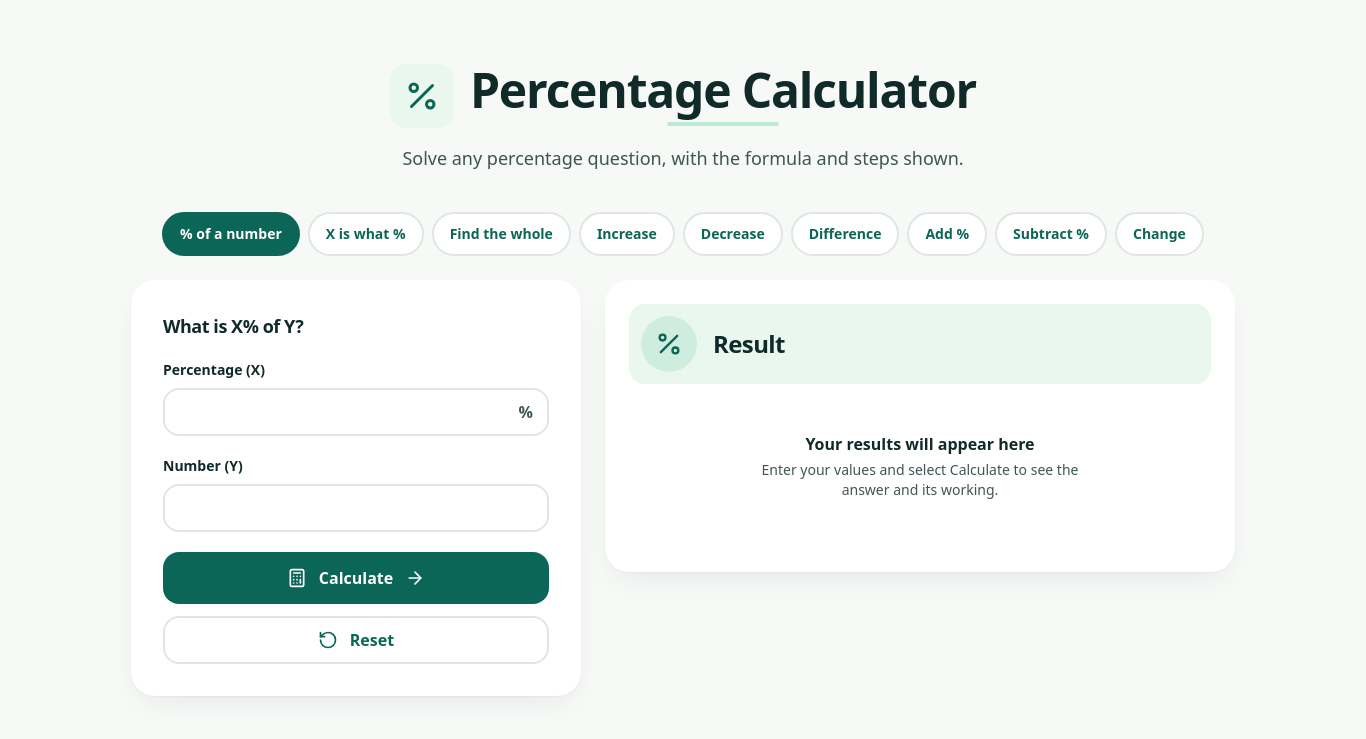
Test: Percentage Calculator › shows the answer, formula and steps, and moves focus to them
The width and height of the screenshot is (1366, 739).
In the field labelled "Percentage (X)": (356, 412) [163,388,549,436], type "20"
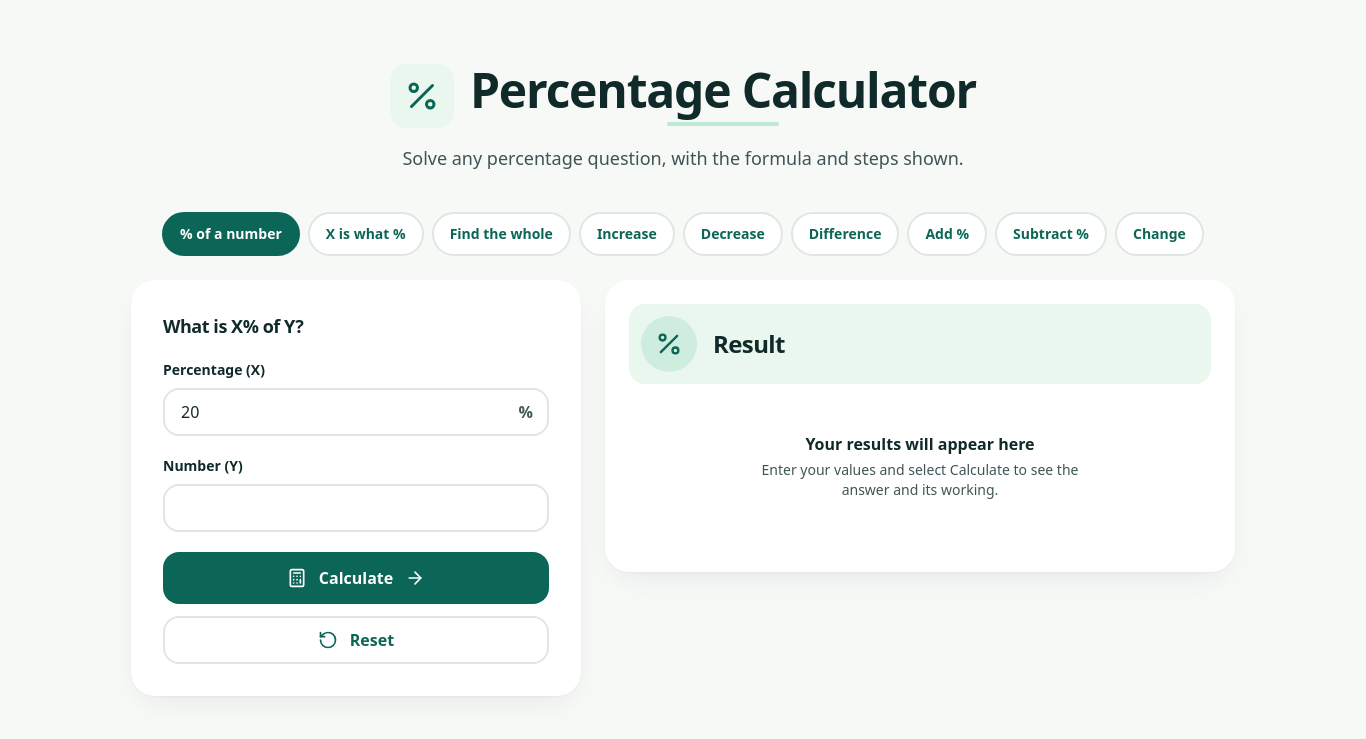
In the field labelled "Number (Y)": (356, 508) [163,484,549,532], type "500"
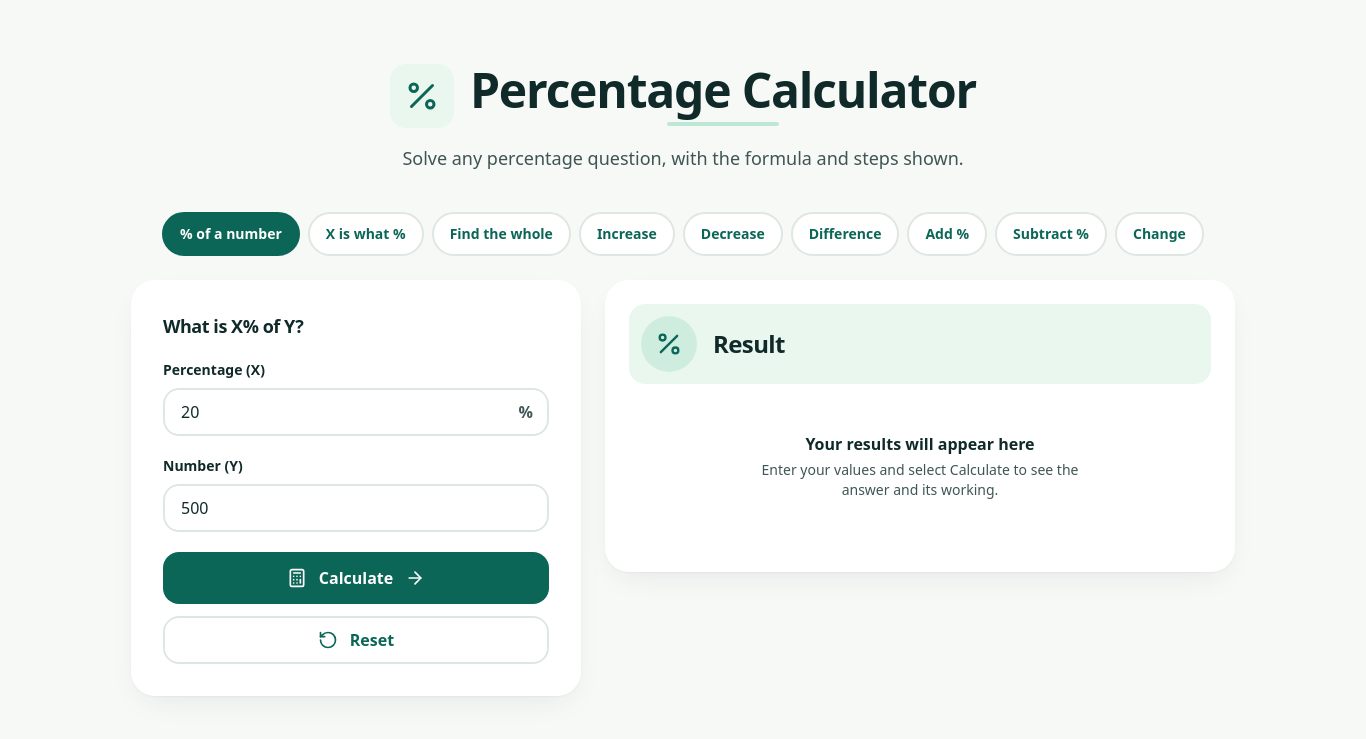
Click the button "Calculate": click(356, 578) [163,552,549,604]
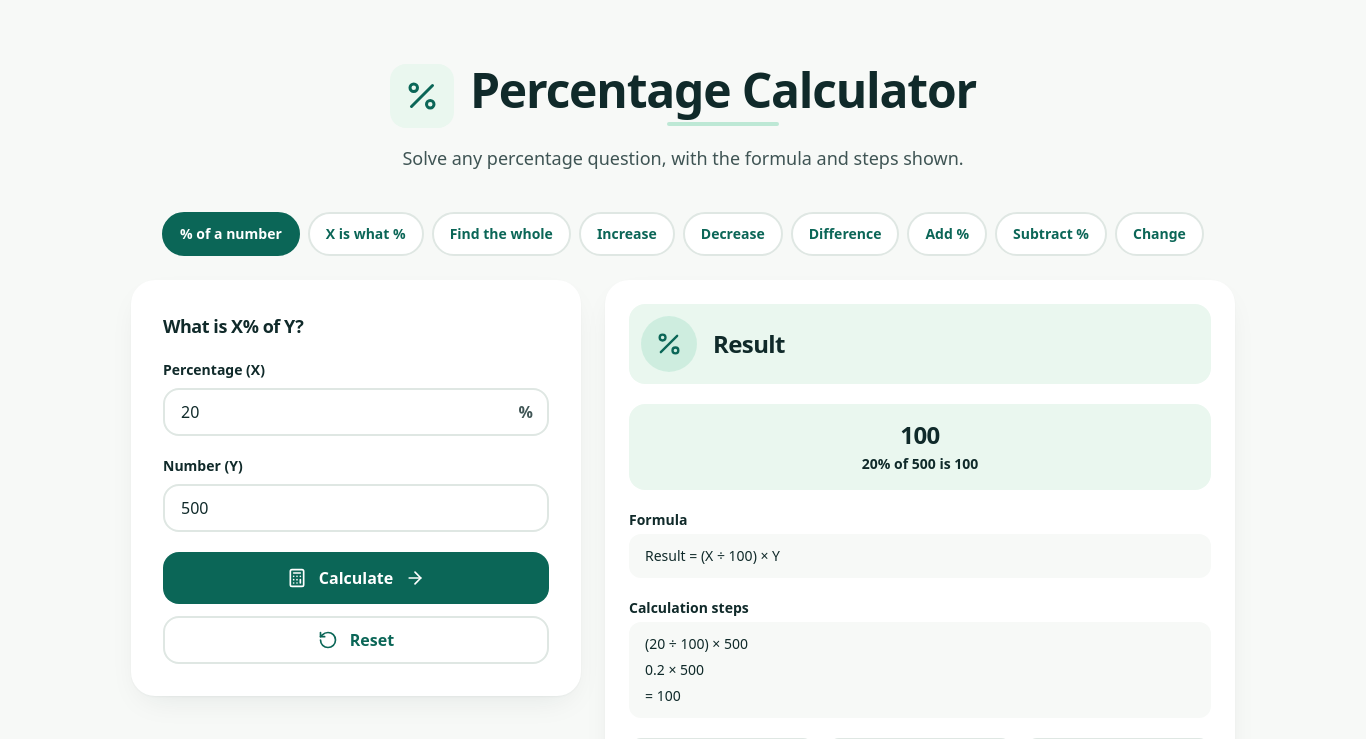
expect the text "20% of 500 is 100" is shown: met, box [862,454,978,473]
expect the text "Result = (X ÷ 100) × Y" is shown: met, box [629,534,1211,578]
expect the list item "(20 ÷ 100) × 500" is shown: met, box [645,634,748,653]
